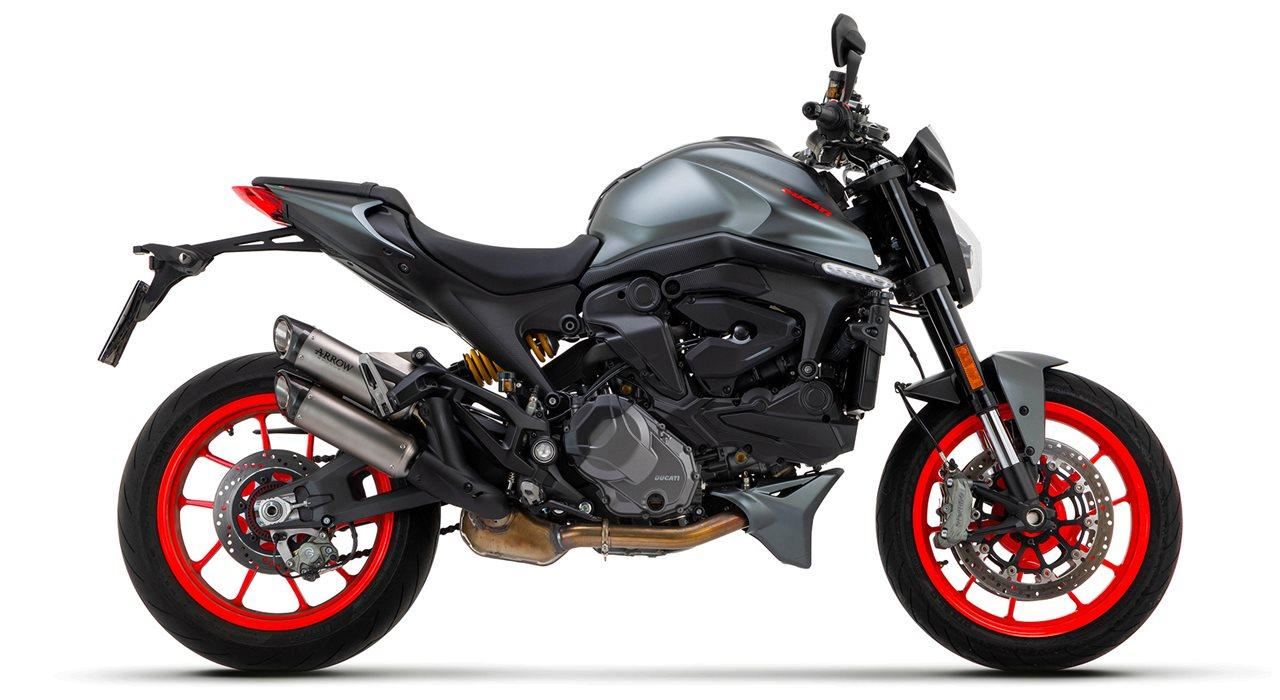engine-chasis: (503, 231, 871, 569), (446, 348, 505, 387), (525, 331, 560, 363)
exhaust: (272, 314, 750, 567)
frontside: (815, 123, 1069, 543)
handlebar: (792, 12, 898, 187)
motorbike: (98, 13, 1183, 672)
rearside: (97, 183, 588, 492), (253, 453, 442, 530)
seat: (250, 176, 600, 294)
tank: (584, 135, 879, 271)
wheel: (117, 351, 442, 676), (874, 368, 1184, 674), (894, 381, 957, 473), (889, 317, 926, 379), (338, 548, 373, 563), (440, 521, 460, 536)
